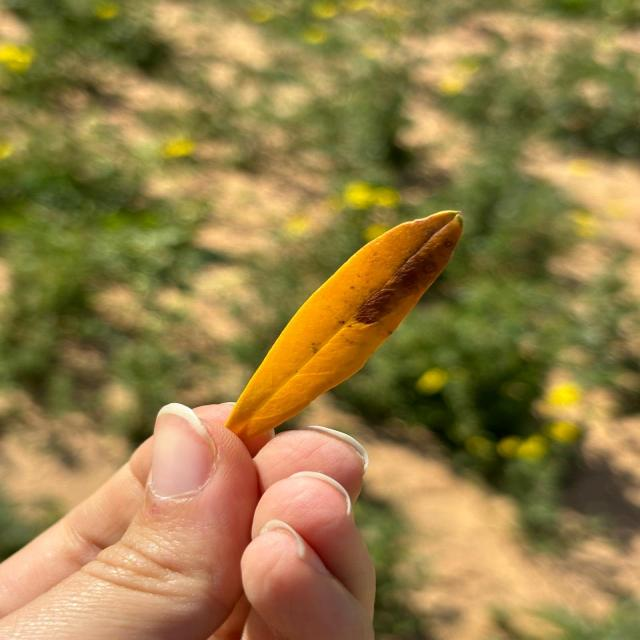Peacock Eye: (225, 211, 462, 448)
